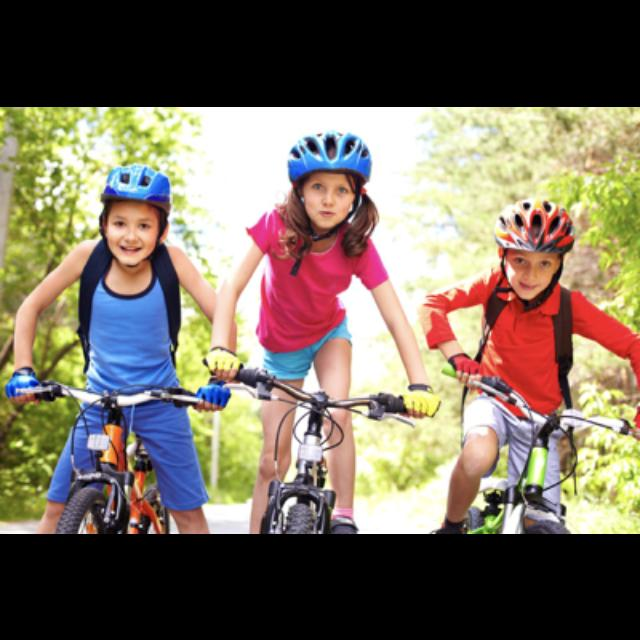With Helmet: (490, 195, 578, 301), (280, 132, 378, 225), (99, 160, 173, 268)
